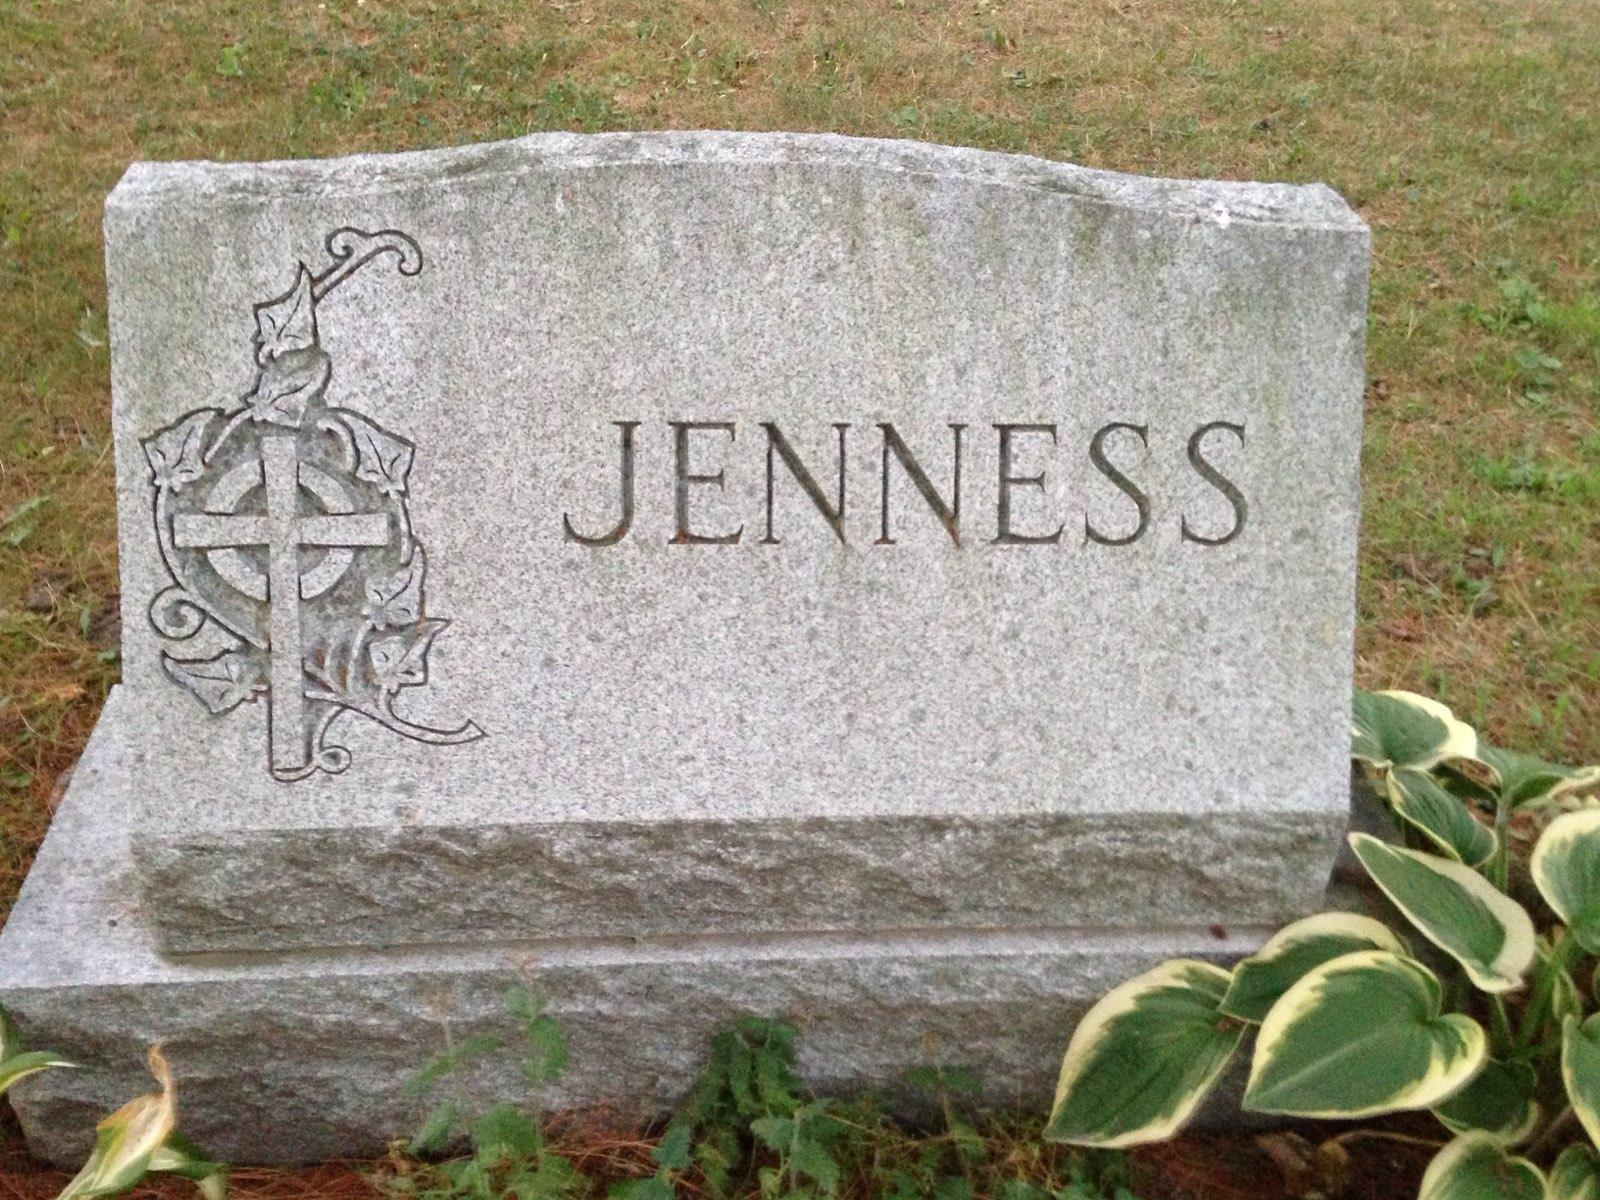slant: (101, 130, 1356, 913)
